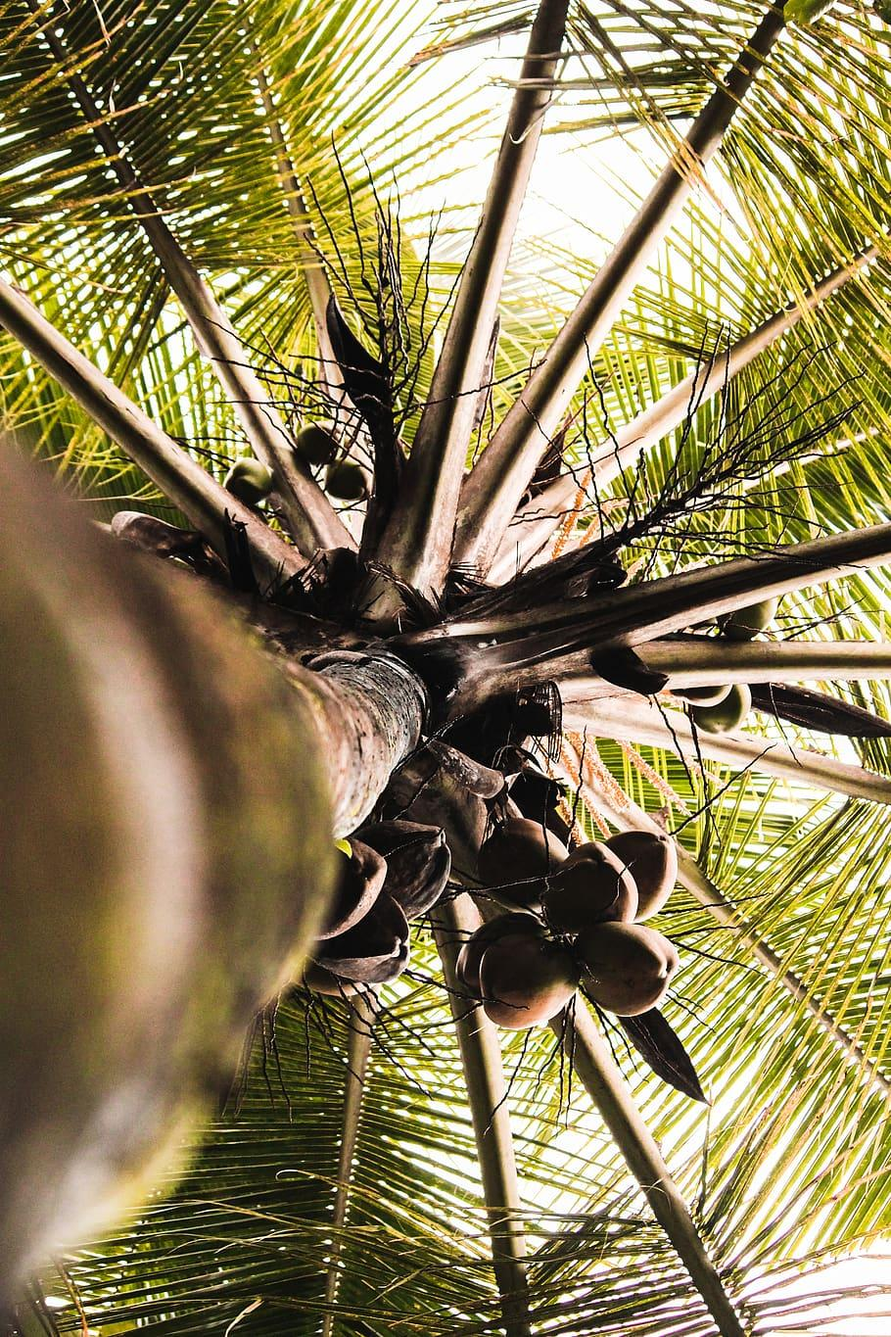coconut_tree: (4, 0, 890, 1336)
